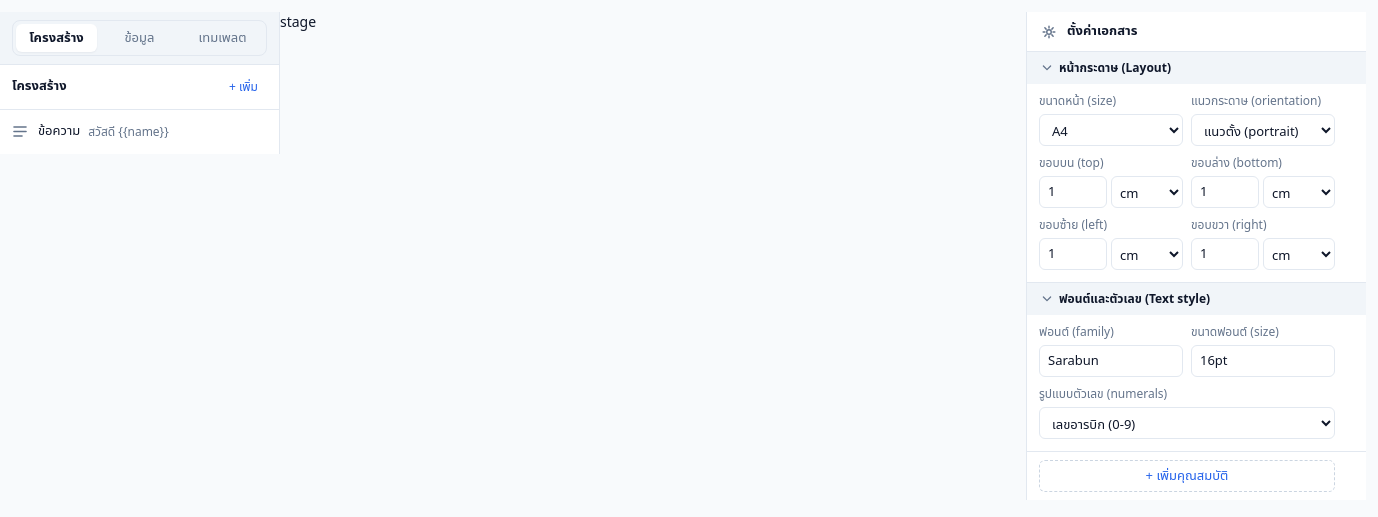
Test: VisualEditor › VisualEditor selecting an outline row shows its properties
Click the list item at (89, 132), box [10, 121, 169, 142]
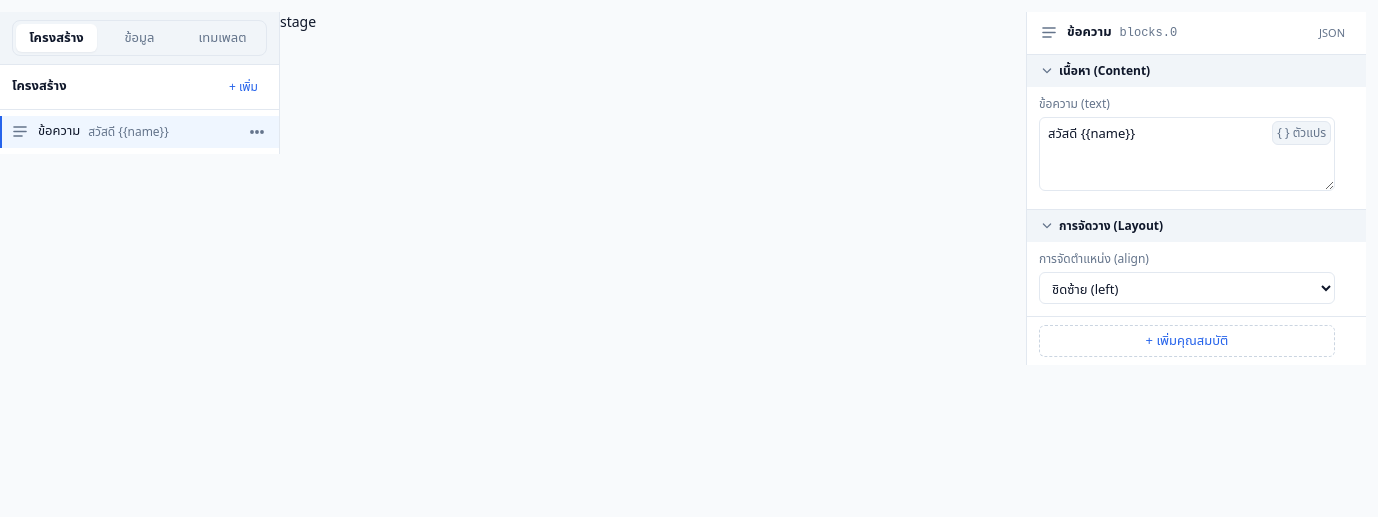
Expected: the text box showing "สวัสดี {{name}}" is shown, [1039, 117, 1335, 191]
